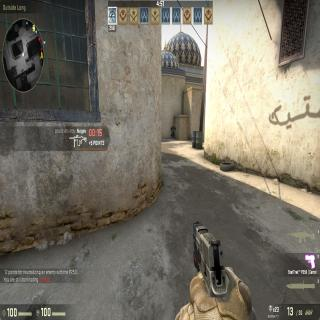T-Body: (170, 123, 175, 137)
T-Head: (172, 123, 175, 127)
